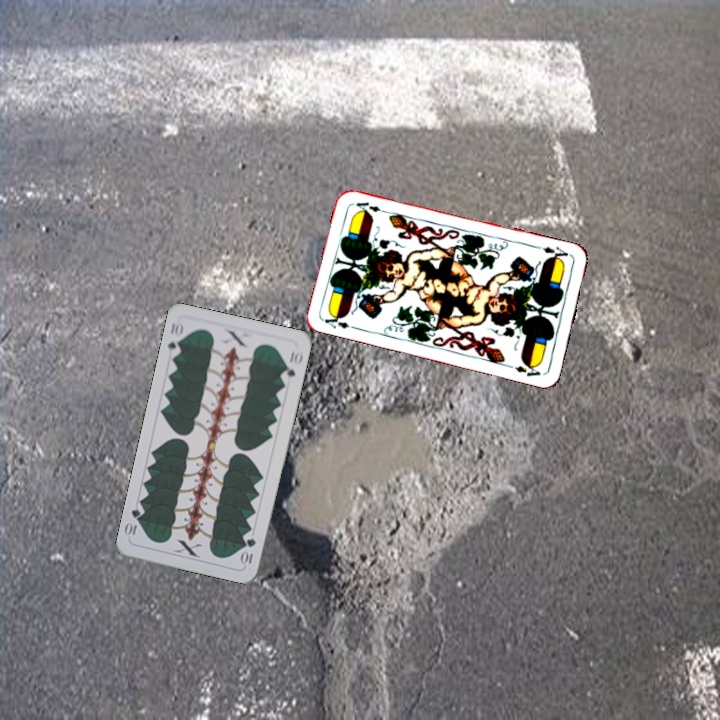EA: (533, 242, 574, 264), (320, 310, 361, 332)
G10: (163, 317, 186, 359), (238, 534, 258, 568)
